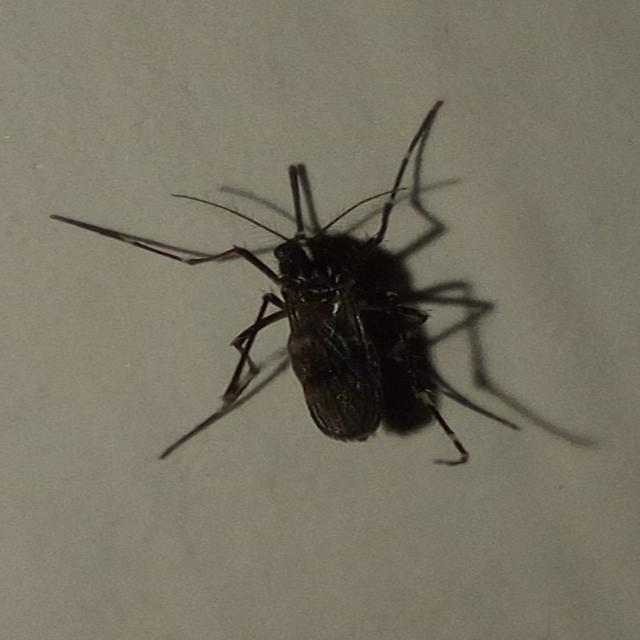albopictus: (62, 104, 556, 488)
